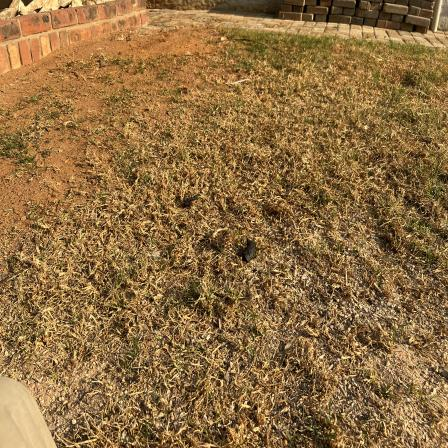dog-poop: (238, 232, 262, 274), (181, 188, 209, 216)
